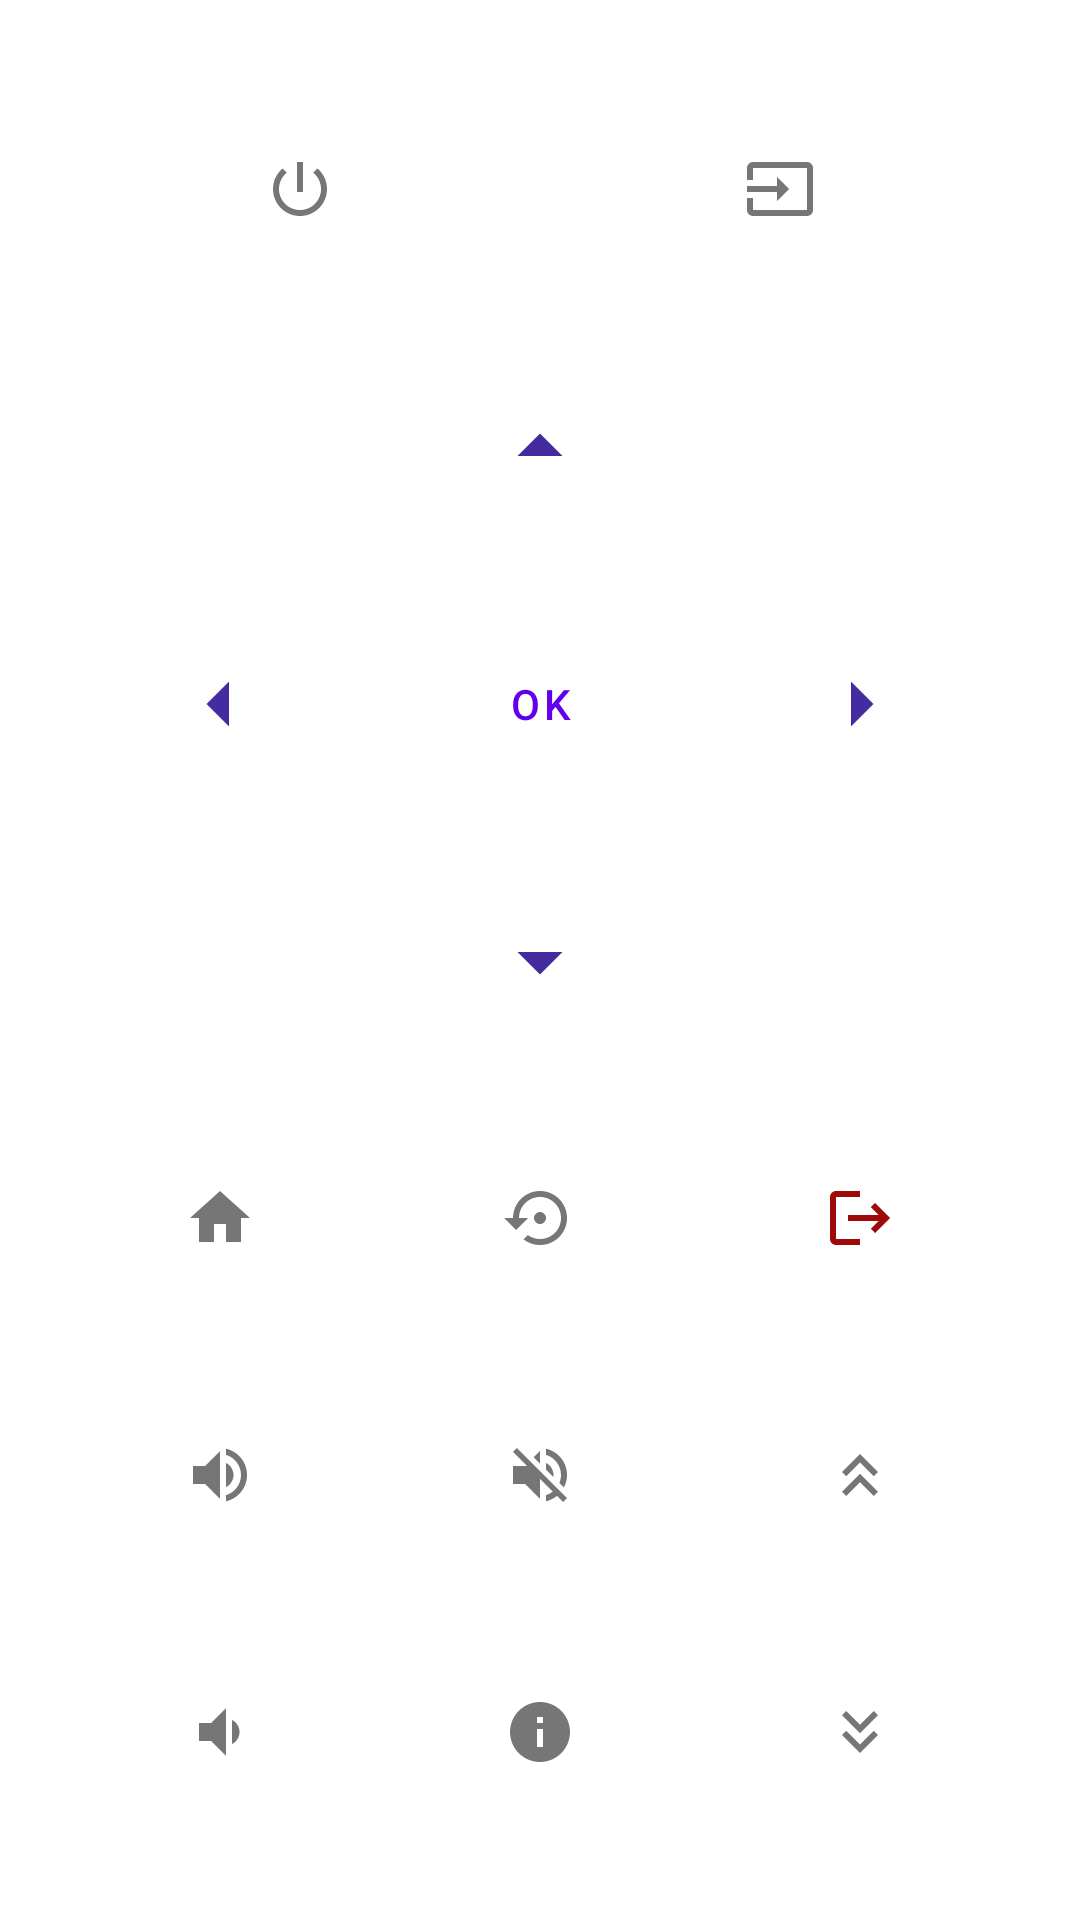

Named icons in this screenshot (1080 x 1920) and their centers, [x,y]:
arrow down: [540,963]
arrow left: [217,704]
arrow right: [862,704]
arrow up: [540,444]
back: [535,1218]
exit: [860,1218]
home: [220,1216]
info: [540,1732]
input: [780,189]
mute: [540,1475]
next: [860,1475]
power: [300,189]
previous: [860,1732]
volume down: [219,1732]
volume up: [220,1475]
